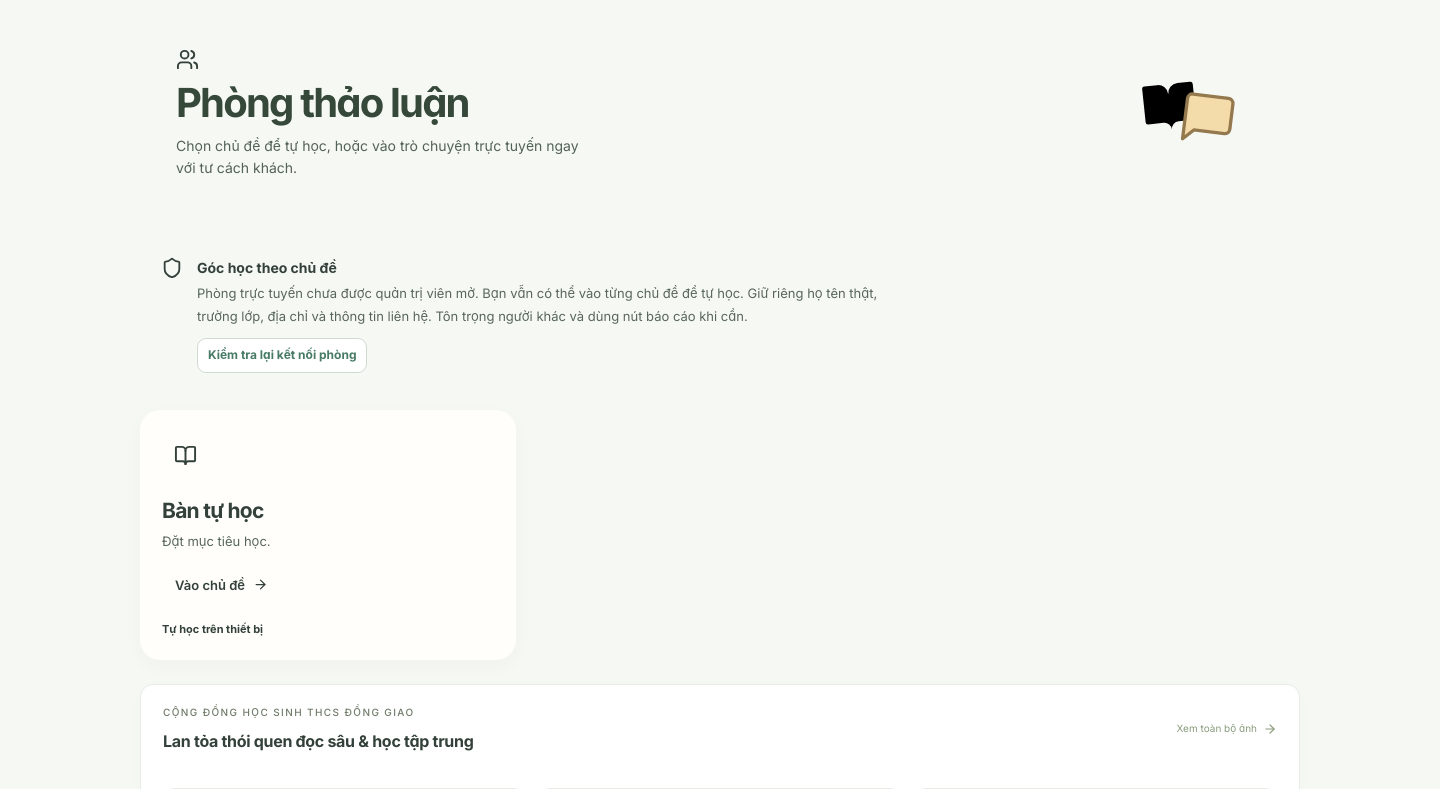
Test case: discussion room entry › allows opening a self-study topic when the moderated server is closed
Check: the text "Phòng trực tuyến chưa được quản trị viên mở" is shown, box [197, 286, 744, 302]
Click the button "Vào chủ đề" at (222, 585), box [162, 566, 281, 604]
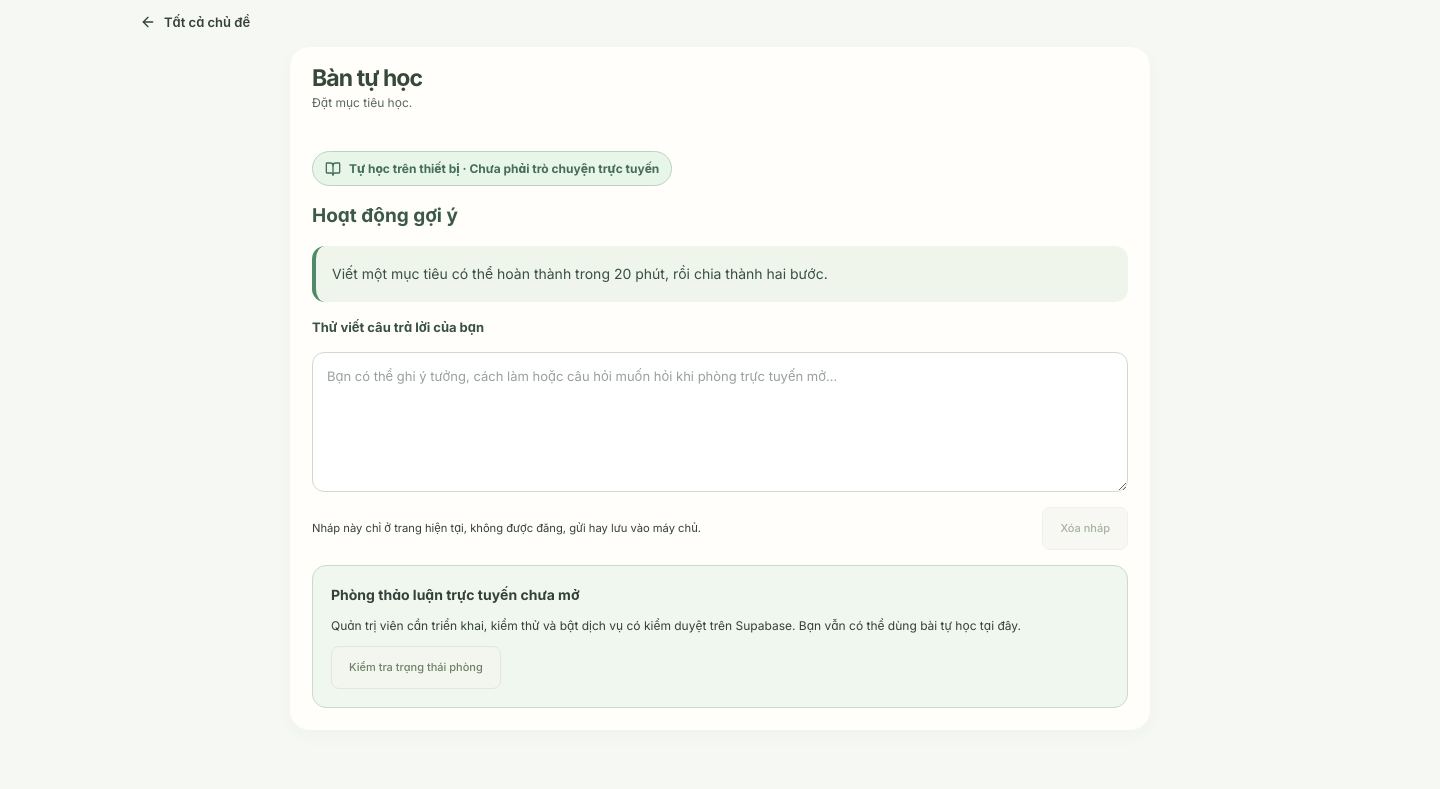
Check: the heading "Bàn tự học" is shown, box [312, 64, 422, 93]
Check: the text "Tự học trên thiết bị · Chưa phải trò chuyện trực tuyến" is shown, box [312, 151, 672, 186]
Replace the text in the text box labelled "Thử viết câu trả lời của bạn" with "Ý tưởng của mình" at (720, 422), box [312, 352, 1128, 492]
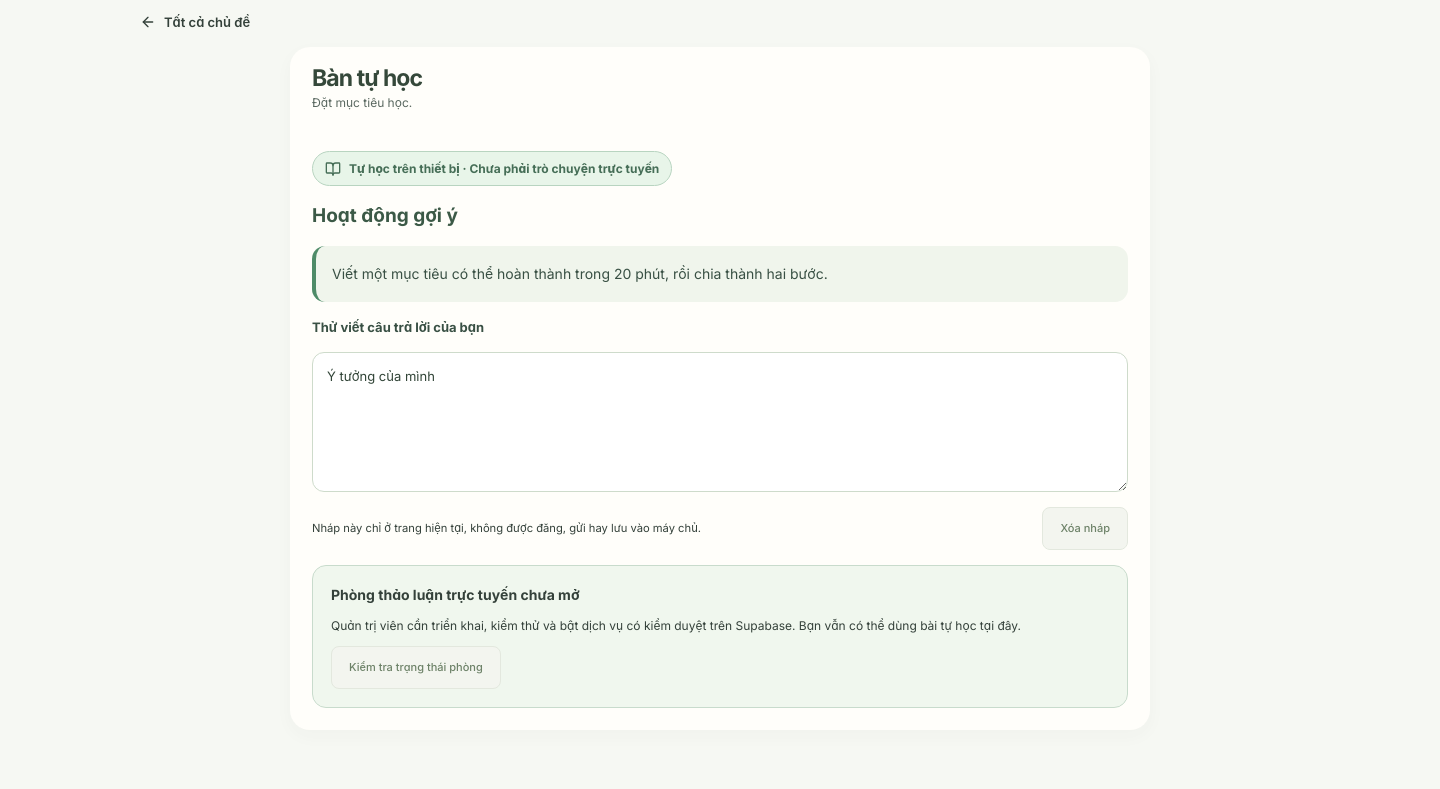
Click the button "Tất cả chủ đề" at (195, 22), box [140, 12, 250, 32]
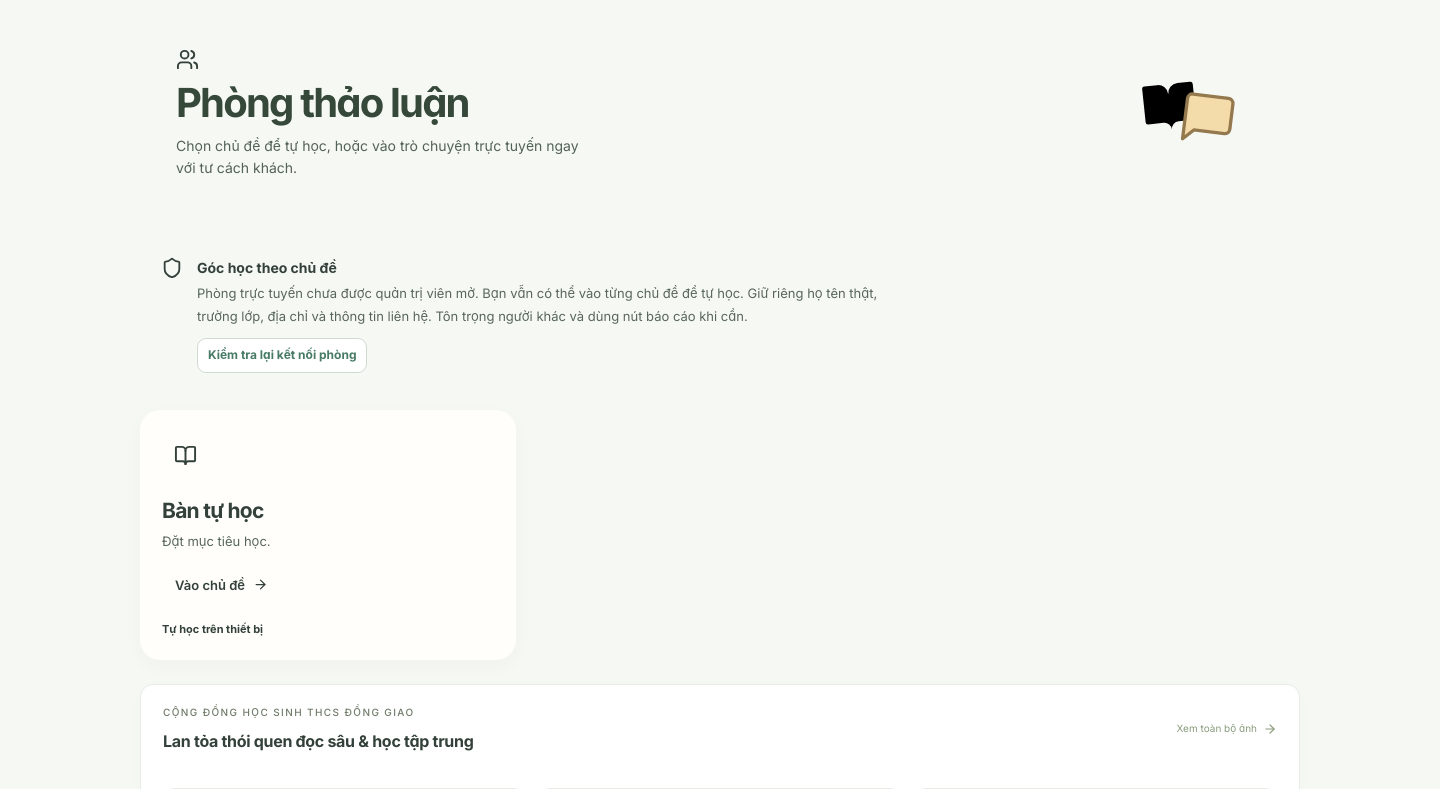
Check: the heading "Phòng thảo luận" is shown, box [176, 78, 469, 127]
